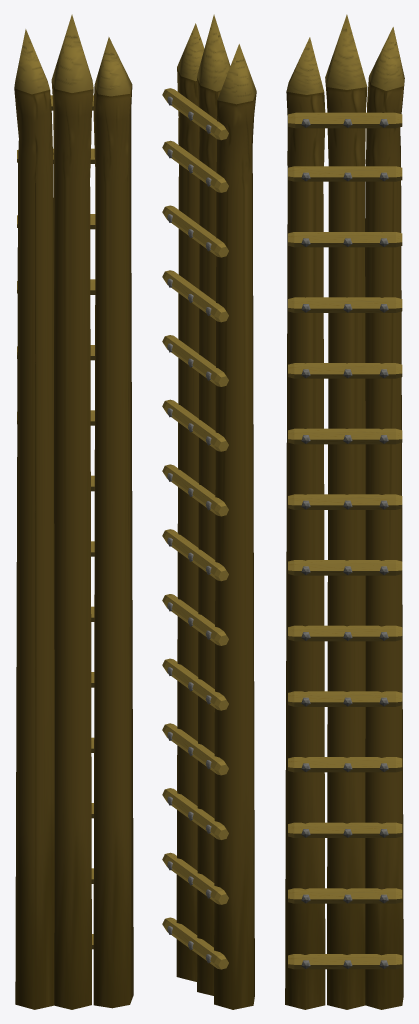
File: FenceLong.fbx
3 renders of one model, left to right at view 1: azimuth 90°, elevation 25°; view 2: azimuth 210°, elevation 25°; view 3: azimuth 270°, elevation 25°, orthographic.
Parts seen in each view (by area): view 1: LogSpike, LogSpike2, LogSpike3; view 2: LogSpike3, LogSpike, LogSpike2, WoodPlank6, WoodPlank2, WoodPlank3, WoodPlank, WoodPlank4, WoodPlank7, WoodPlank8, WoodPlank10, WoodPlank5 (+5 smaller); view 3: LogSpike2, LogSpike, LogSpike3, WoodPlank, WoodPlank6, WoodPlank9, WoodPlank3, WoodPlank5, WoodPlank8, WoodPlank2, WoodPlank11, WoodPlank14 (+5 smaller).
Part boxes in pixels (box(x1,y1,x2,y2)): LogSpike: box(93, 37, 133, 1008); LogSpike2: box(51, 14, 93, 1009); LogSpike3: box(14, 29, 54, 1009); LogSpike3: box(214, 44, 256, 1009); LogSpike: box(176, 23, 204, 981); LogSpike2: box(197, 14, 230, 995); WoodPlank6: box(162, 399, 228, 451); WoodPlank2: box(162, 140, 228, 192); WoodPlank3: box(162, 205, 228, 257); WoodPlank: box(162, 88, 228, 140); WoodPlank4: box(162, 270, 228, 322); WoodPlank7: box(162, 464, 228, 516); WoodPlank8: box(162, 529, 228, 581); WoodPlank10: box(162, 658, 228, 710); WoodPlank5: box(162, 335, 228, 386); LogSpike2: box(325, 14, 367, 1009); LogSpike: box(285, 37, 325, 1009); LogSpike3: box(365, 27, 404, 1009); WoodPlank: box(288, 112, 402, 128); WoodPlank6: box(288, 428, 402, 444); WoodPlank9: box(288, 625, 402, 641); WoodPlank3: box(288, 232, 402, 247); WoodPlank5: box(288, 363, 402, 378); WoodPlank8: box(288, 560, 402, 575); WoodPlank2: box(288, 166, 402, 181); WoodPlank11: box(288, 757, 402, 772); WoodPlank14: box(288, 954, 402, 969).
Size of the model in its own units: 0.9567 by 18.14 by 1.99.
